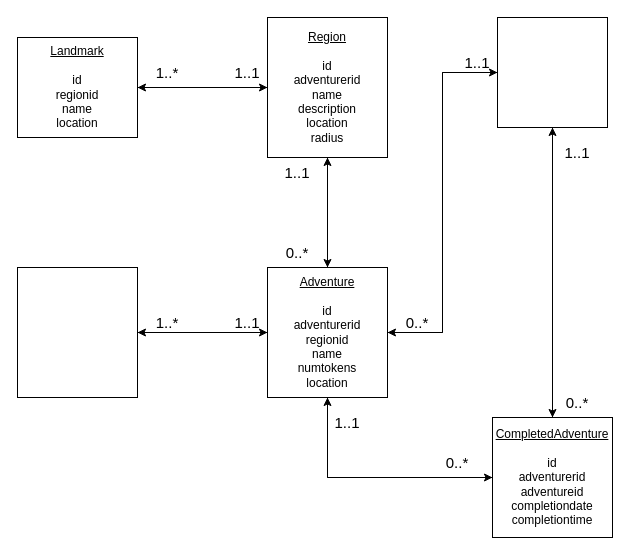
The diagram is 630 pixels wide and 555 high, and some of its shapes have lost their labels. The centre of each missing label's shape, as x and y in pixels:
"Adventurer id username password profilepicture" belongs at (x=552, y=72).
"Token id adventureid location hint tokenorder" belongs at (x=77, y=332).
